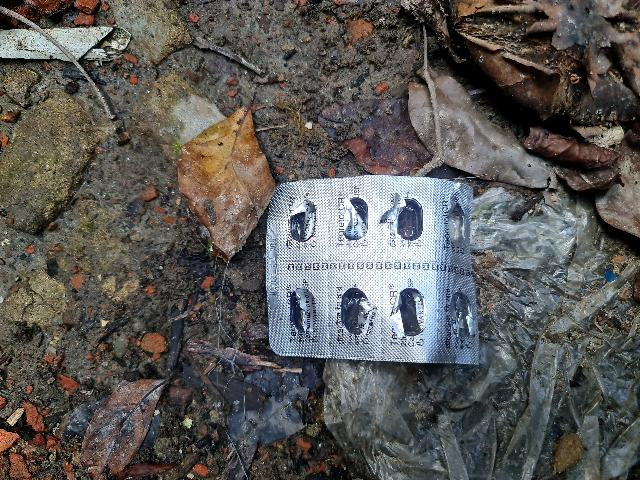medicine: (256, 168, 499, 377)
